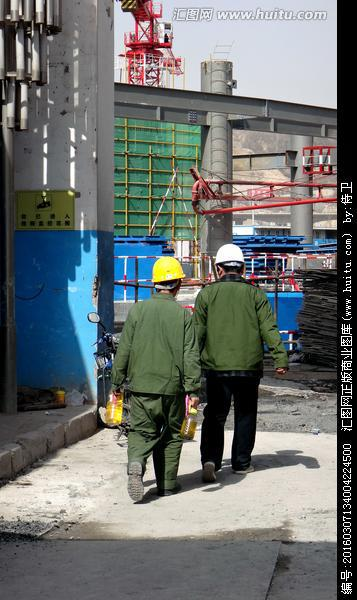helmet: (149, 252, 188, 305), (212, 243, 248, 283)
